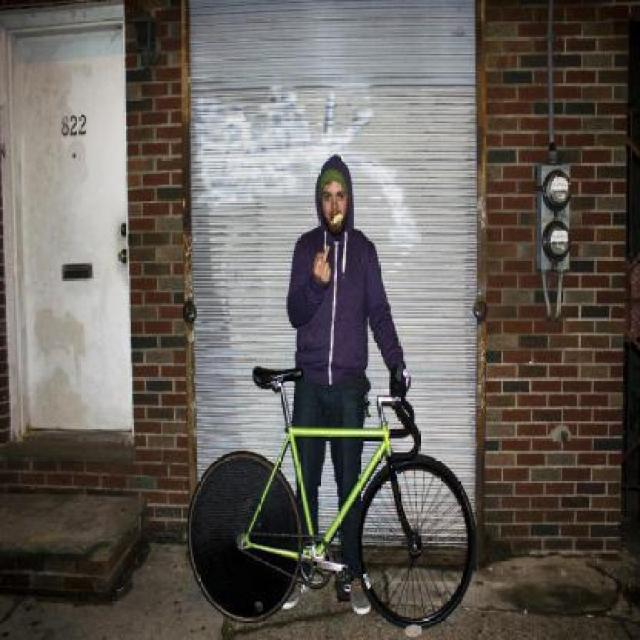Person: (278, 152, 410, 614)
